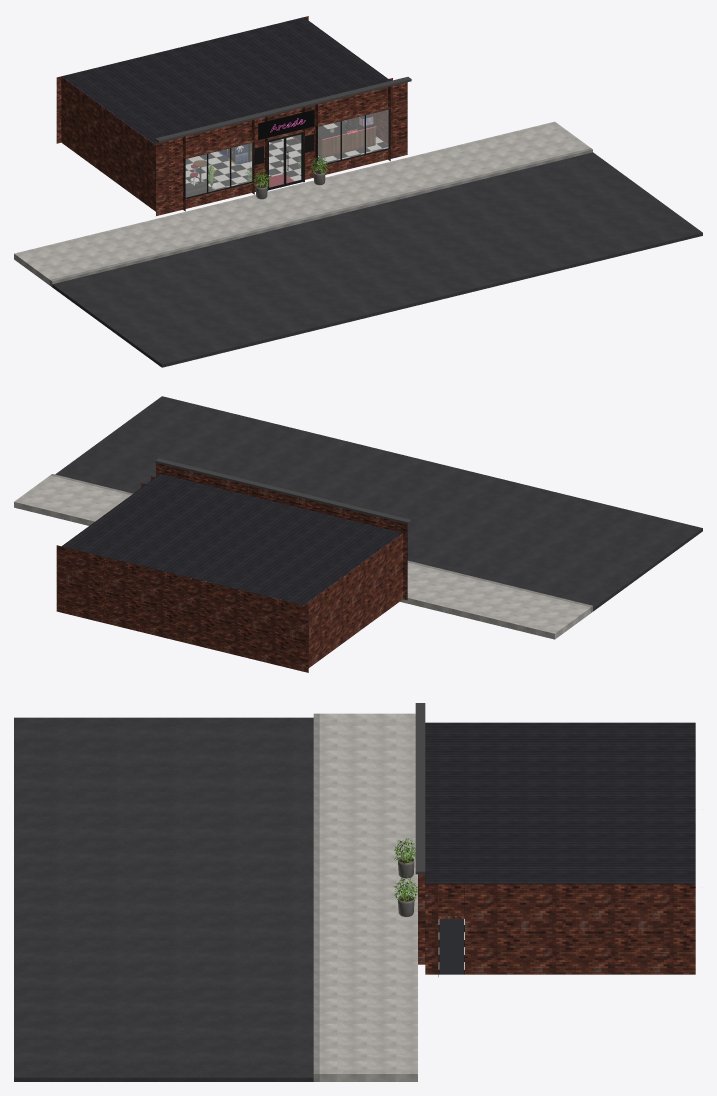
Rendered from arcade.glb.
The picture shows the model from 3 angles, top to bottom: view 1: azimuth 30°, elevation 25°; view 2: azimuth 150°, elevation 25°; view 3: azimuth 270°, elevation 25°; orthographic projection. The views are drawn at different scales.
Visible parts, largest first — view 1: Calle, Techo, Acera, Muros_Ladrillo, Vidrios, Suelo_Damero, Bordillo, Carpinteria_Aluminio, Fachada_Remate, Mostrador_B, Fondo_Letrero_Fachada; view 2: Calle, Muros_Ladrillo, Techo, Acera, Fachada_Remate, Bordillo; view 3: Calle, Techo, Acera, Muros_Ladrillo, Bordillo, Fachada_Remate, Puerta_Emergencia.
Boxes of the visible parts, <box> form: Calle: <box>52,152,702,367</box>; Techo: <box>62,17,390,144</box>; Acera: <box>14,121,590,285</box>; Muros_Ladrillo: <box>56,16,407,215</box>; Vidrios: <box>186,110,388,197</box>; Suelo_Damero: <box>185,120,388,189</box>; Bordillo: <box>50,148,592,286</box>; Carpinteria_Aluminio: <box>184,109,389,198</box>; Fachada_Remate: <box>155,77,411,142</box>; Mostrador_B: <box>318,127,375,157</box>; Fondo_Letrero_Fachada: <box>258,110,314,139</box>; Calle: <box>55,396,702,611</box>; Muros_Ladrillo: <box>56,463,407,672</box>; Techo: <box>62,474,402,605</box>; Acera: <box>14,475,590,639</box>; Fachada_Remate: <box>155,458,411,524</box>; Bordillo: <box>50,474,592,612</box>; Calle: <box>14,717,313,1081</box>; Techo: <box>425,722,695,883</box>; Acera: <box>319,713,417,1081</box>; Muros_Ladrillo: <box>418,874,695,976</box>; Bordillo: <box>313,713,319,1081</box>; Fachada_Remate: <box>415,703,425,874</box>; Puerta_Emergencia: <box>439,919,463,974</box>.
Size of the model in its own units: 29 by 4.3 by 23.45.
149 materials, 104 textured.
